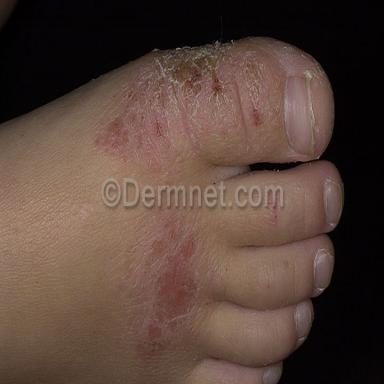eczema: (96, 43, 286, 165), (128, 213, 198, 351)
